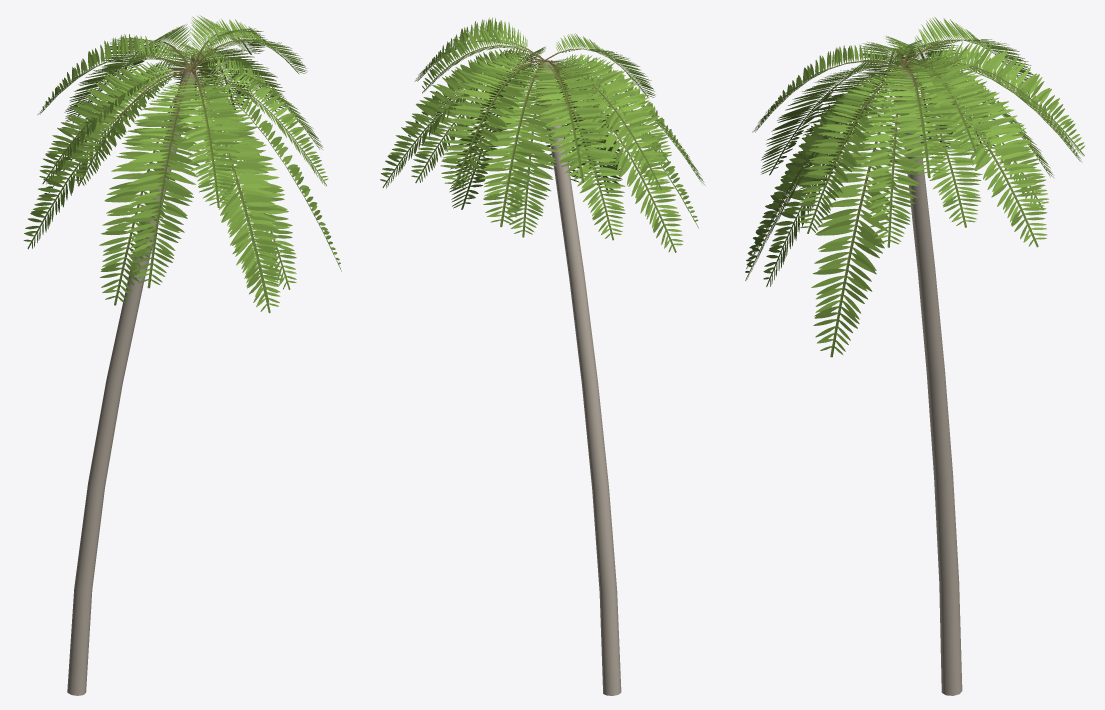
File: cocos-nucifera.glb
3 views of the same model, side by side, from view 1: azimuth 30°, elevation 25°; view 2: azimuth 150°, elevation 25°; view 3: azimuth 270°, elevation 25° (orthographic). The views are drawn at different scales.
Visible parts, largest first — view 1: fronde, estipe; view 2: fronde, estipe; view 3: fronde, estipe.
Part boxes in pixels (box(x1,y1,x2,y2)): fronde: box(23, 15, 341, 313); estipe: box(67, 68, 198, 695); fronde: box(380, 17, 705, 252); estipe: box(538, 60, 621, 695); fronde: box(745, 17, 1084, 357); estipe: box(895, 71, 962, 695).
Bounding box in the file's own units: 7 × 15 × 6.77.
Materials: 2 (1 with a texture image).
